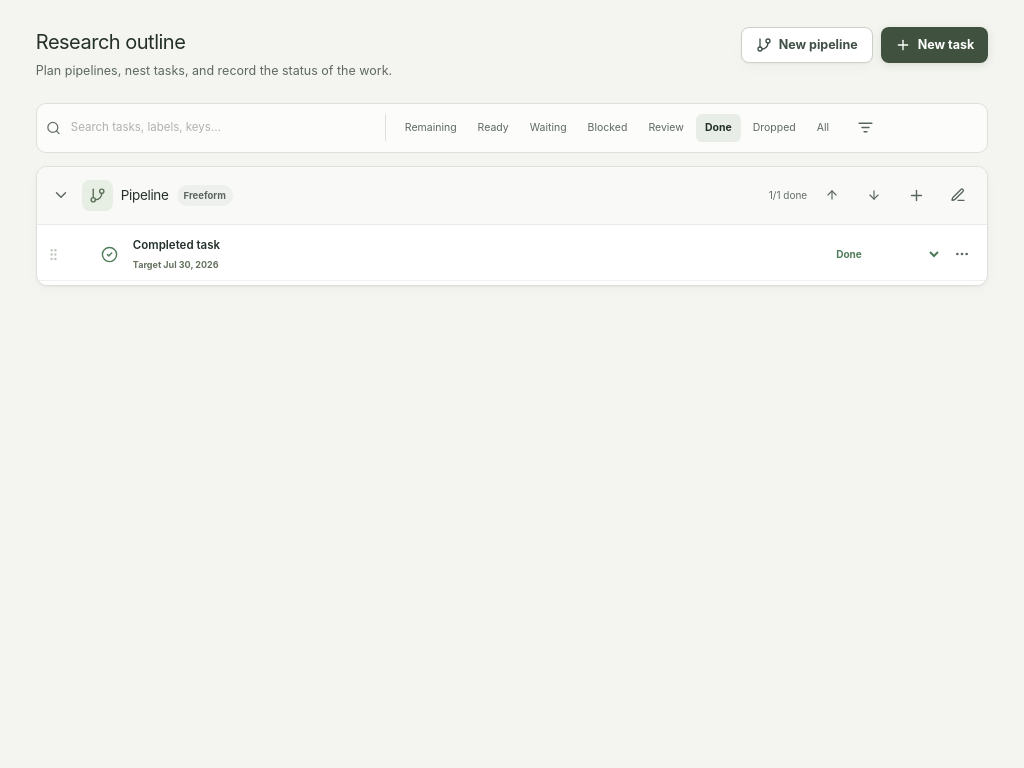
OutlineView completion evidence › opens the editor from the visible task actions menu
Click the button named "Actions for Completed task" at {"x": 962, "y": 254}, box [948,240,976,268]
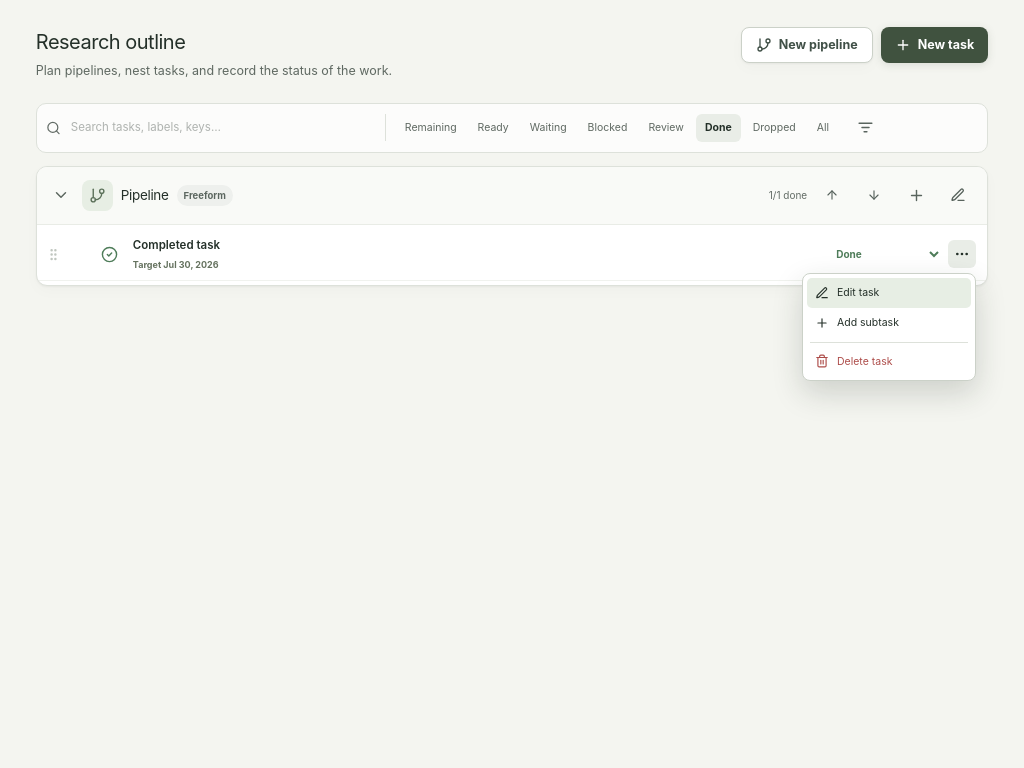
Now the menu item "Add subtask" is shown, box [815,316,899,330]
Now the menu item "Delete task" is shown, box [815,354,892,368]
Click the menu item "Edit task" at {"x": 889, "y": 293}, box [807,278,971,308]
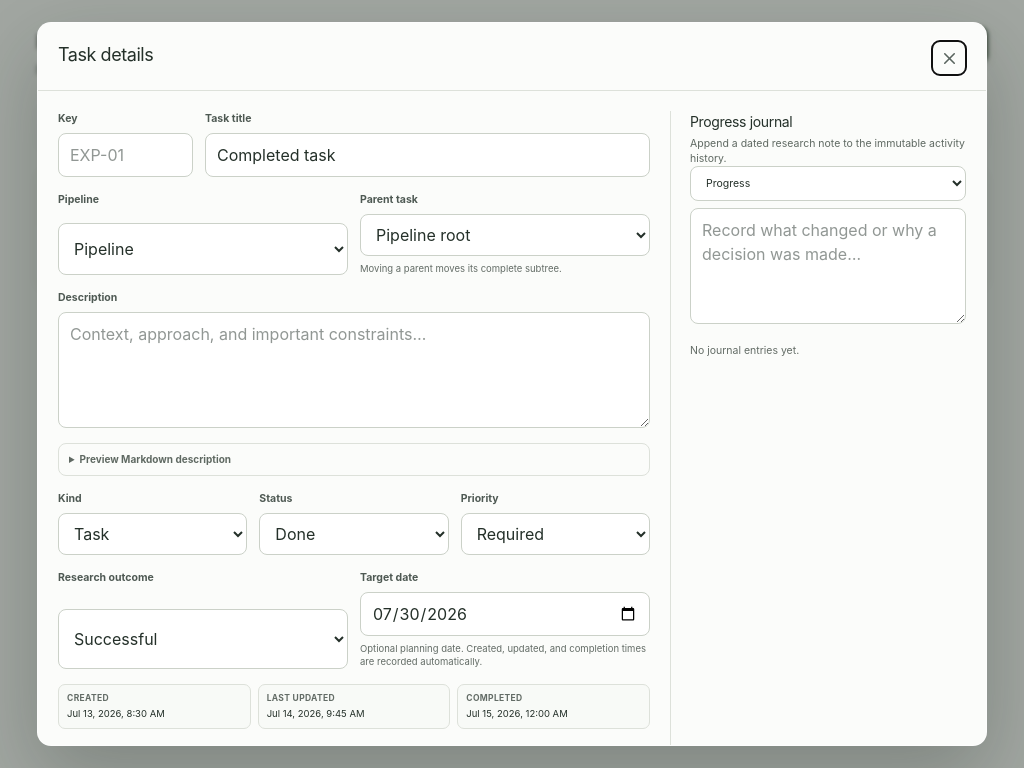
Now the dialog "Task details" is shown
